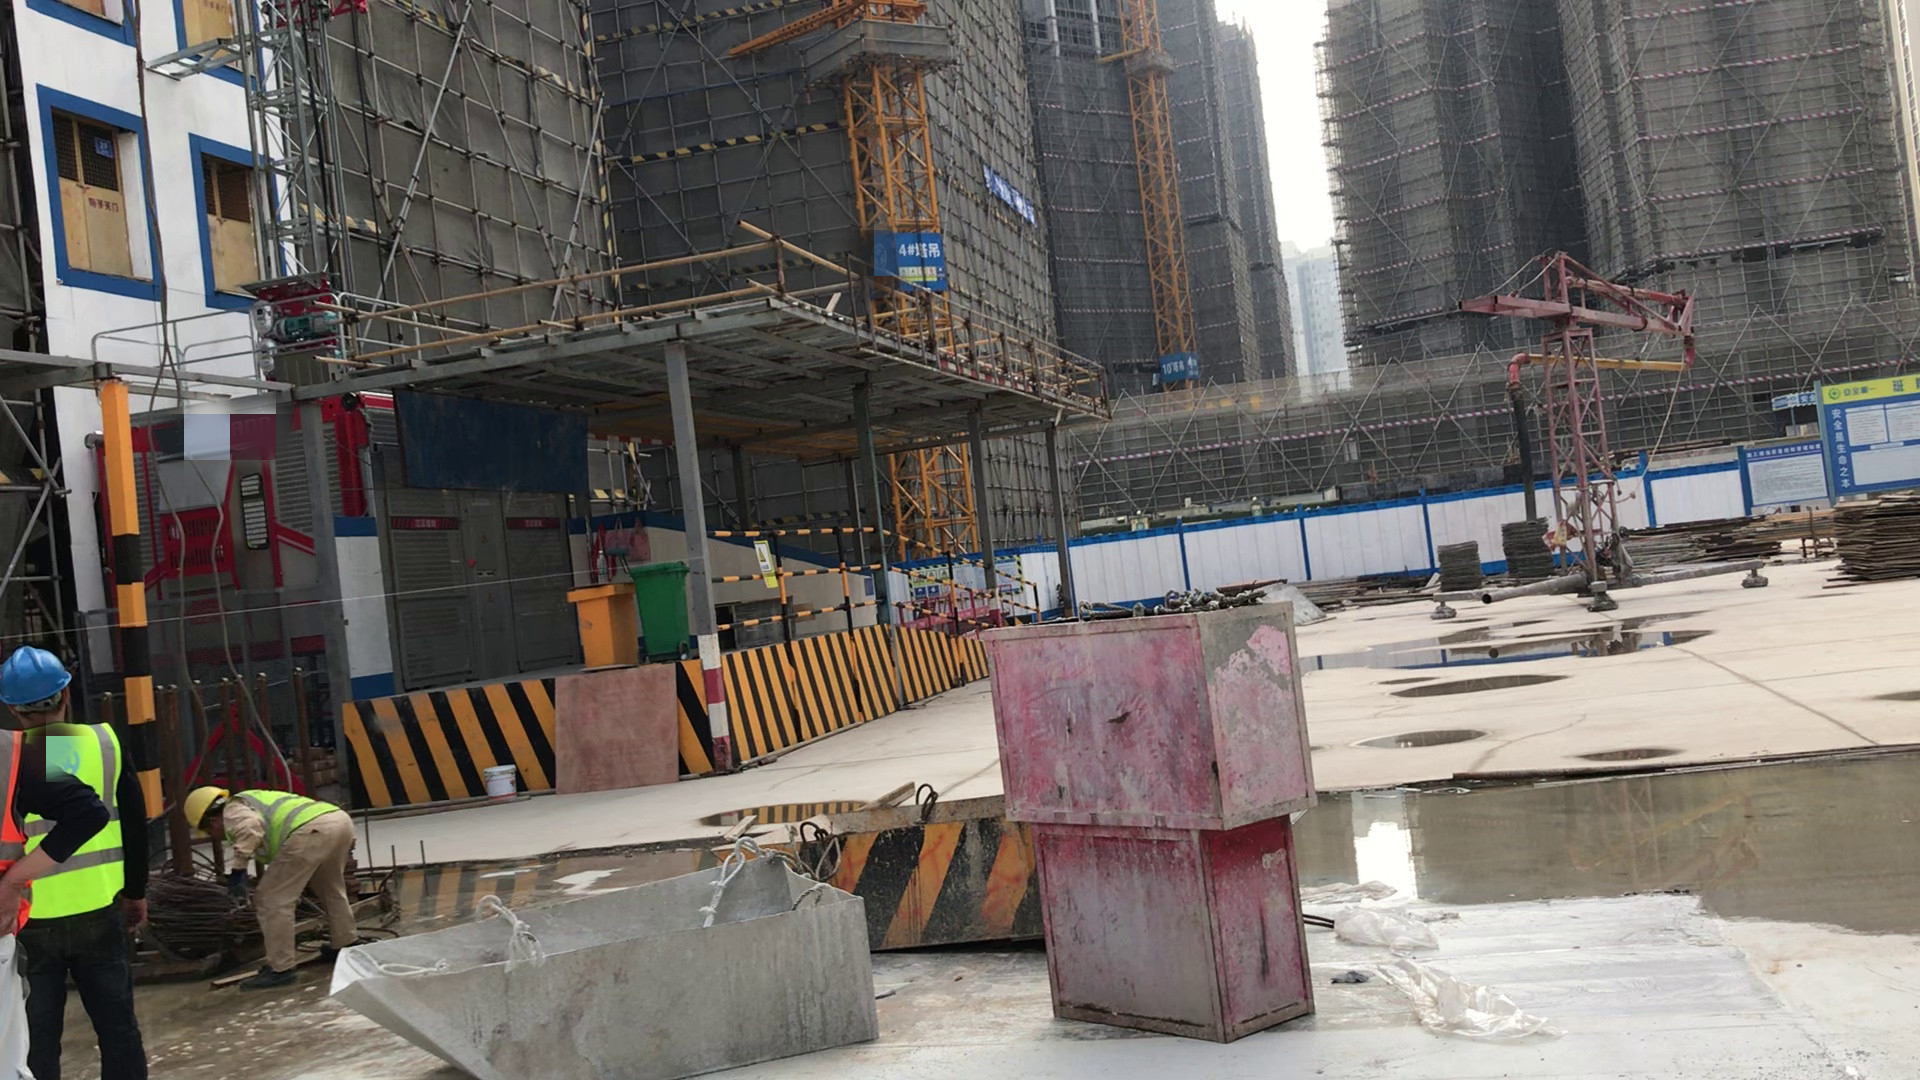board: (1822, 481, 1920, 608)
fence: (700, 501, 1100, 671)
helmet: (5, 650, 82, 711), (179, 790, 233, 828)
hopper: (315, 838, 882, 1080), (760, 782, 1070, 966)
person: (6, 644, 161, 1080), (178, 779, 376, 990), (5, 728, 80, 1080)
slogan: (978, 161, 1050, 243)
vest: (35, 723, 129, 913), (238, 793, 347, 849)
